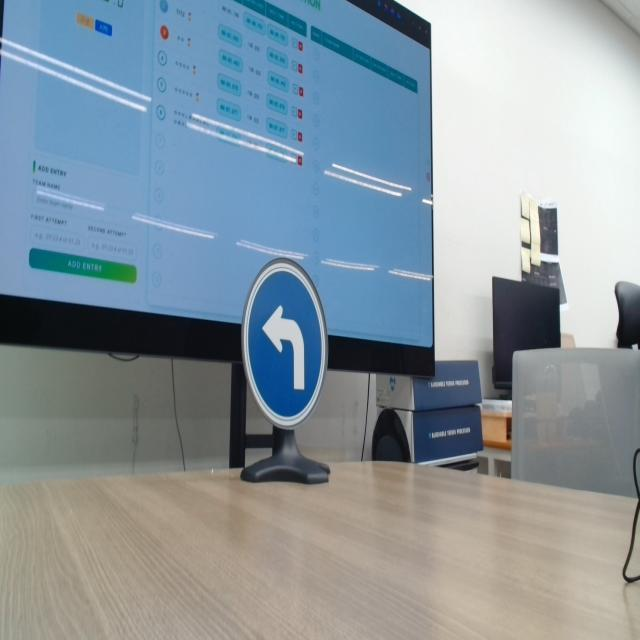left_direction: (237, 250, 341, 439)
